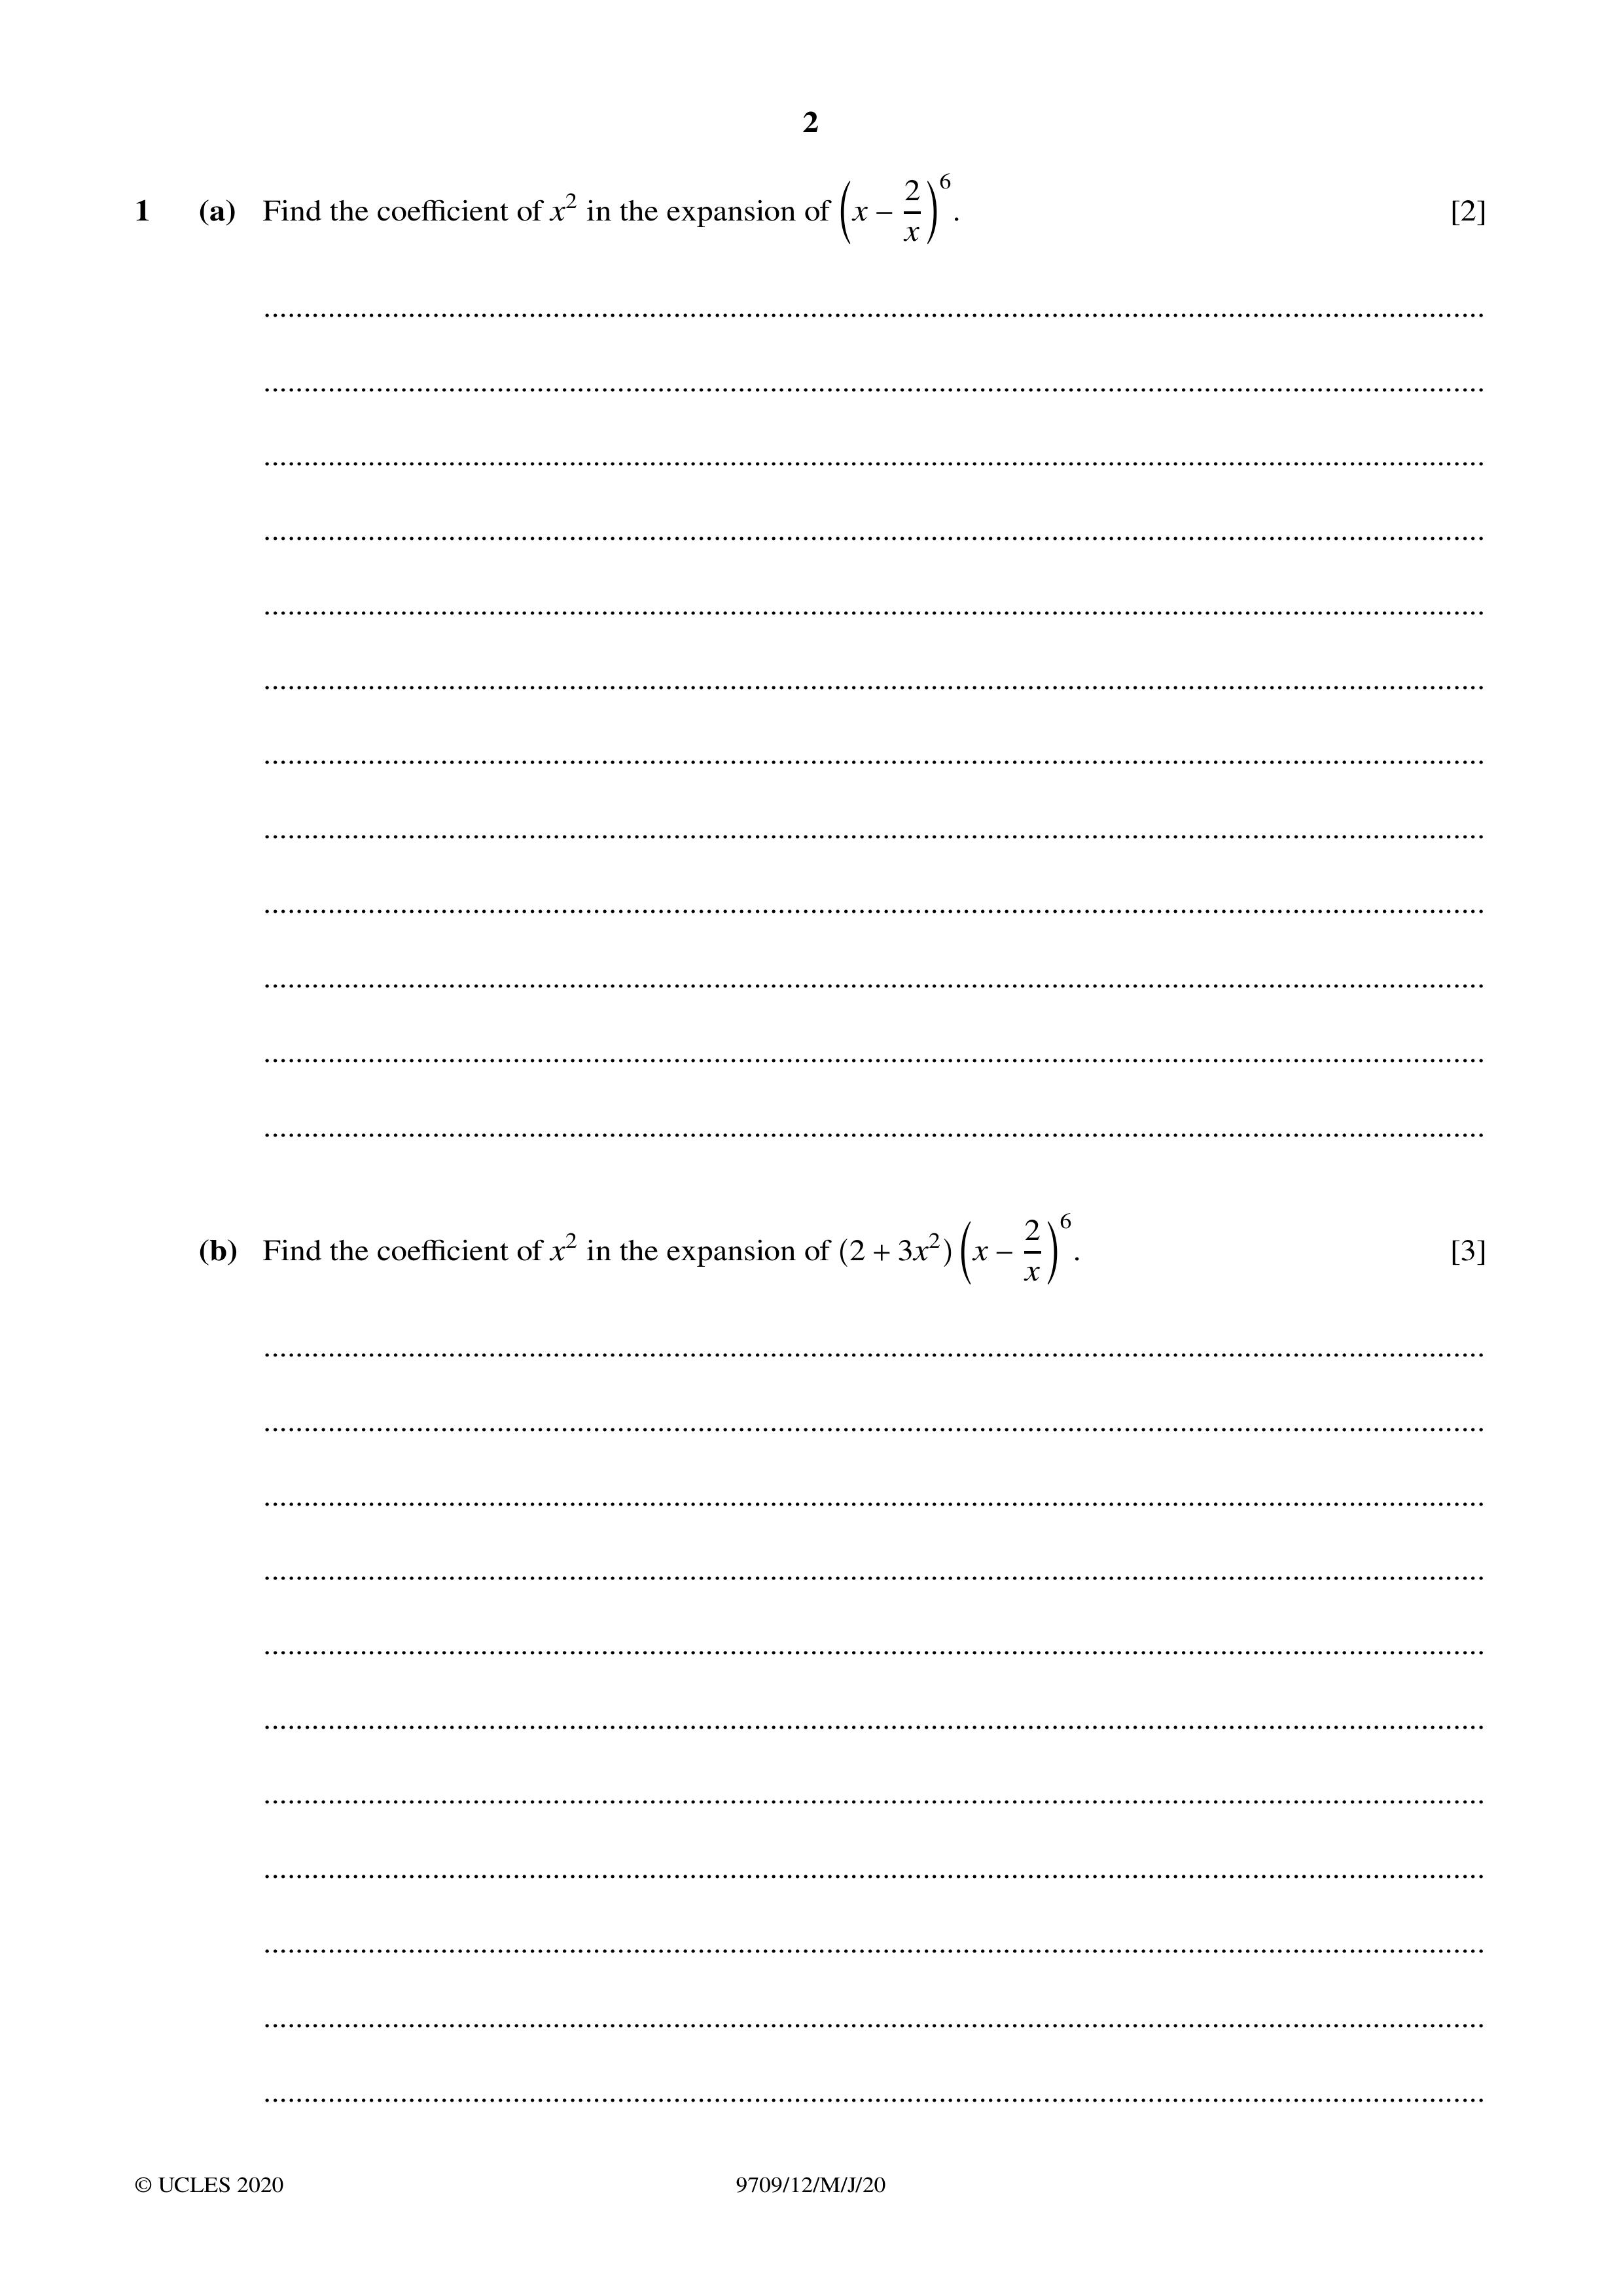question: (155, 1152, 1525, 1334), (132, 140, 1525, 281)
